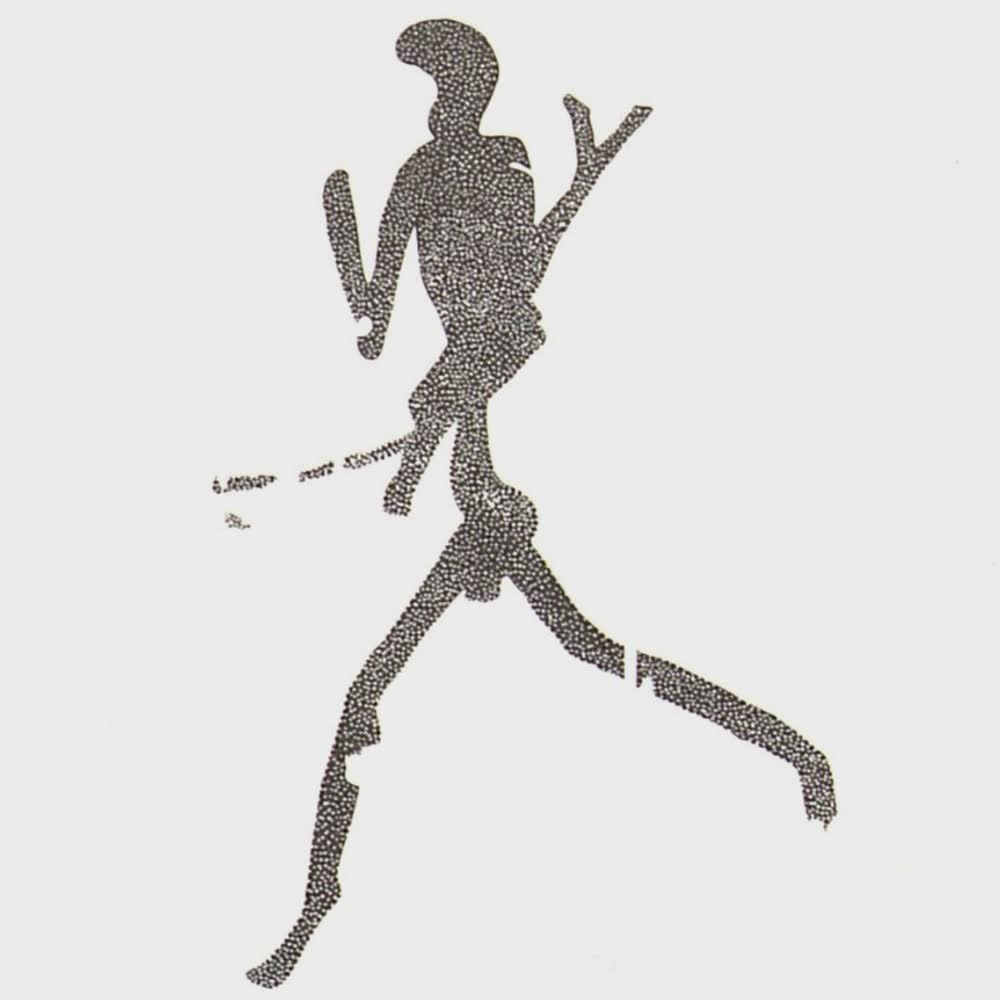man: (201, 14, 845, 1000)
